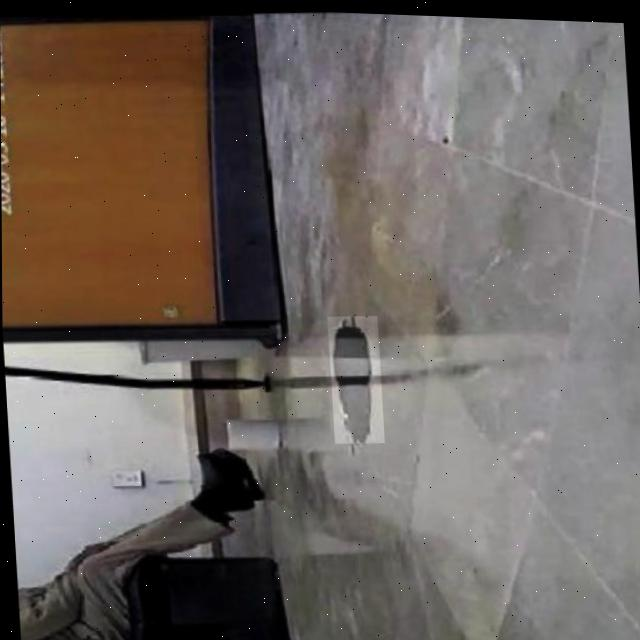spillage: (329, 313, 378, 440)
